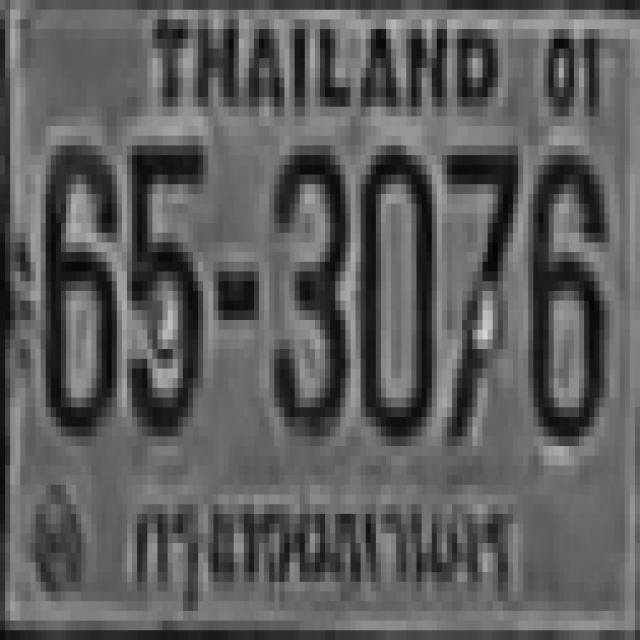0: (356, 136, 432, 436)
3: (270, 136, 346, 427)
5: (124, 136, 200, 427)
6: (524, 146, 600, 437), (40, 136, 111, 427)
7: (444, 136, 516, 436)
Bangkok: (122, 471, 518, 614)
